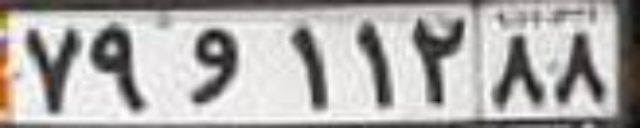1: (289, 27, 329, 109), (353, 20, 392, 104)
2: (409, 15, 465, 103)
7: (23, 25, 79, 114)
8: (492, 34, 545, 106), (557, 33, 605, 105)
9: (84, 25, 149, 108)
vav: (182, 26, 241, 102)
